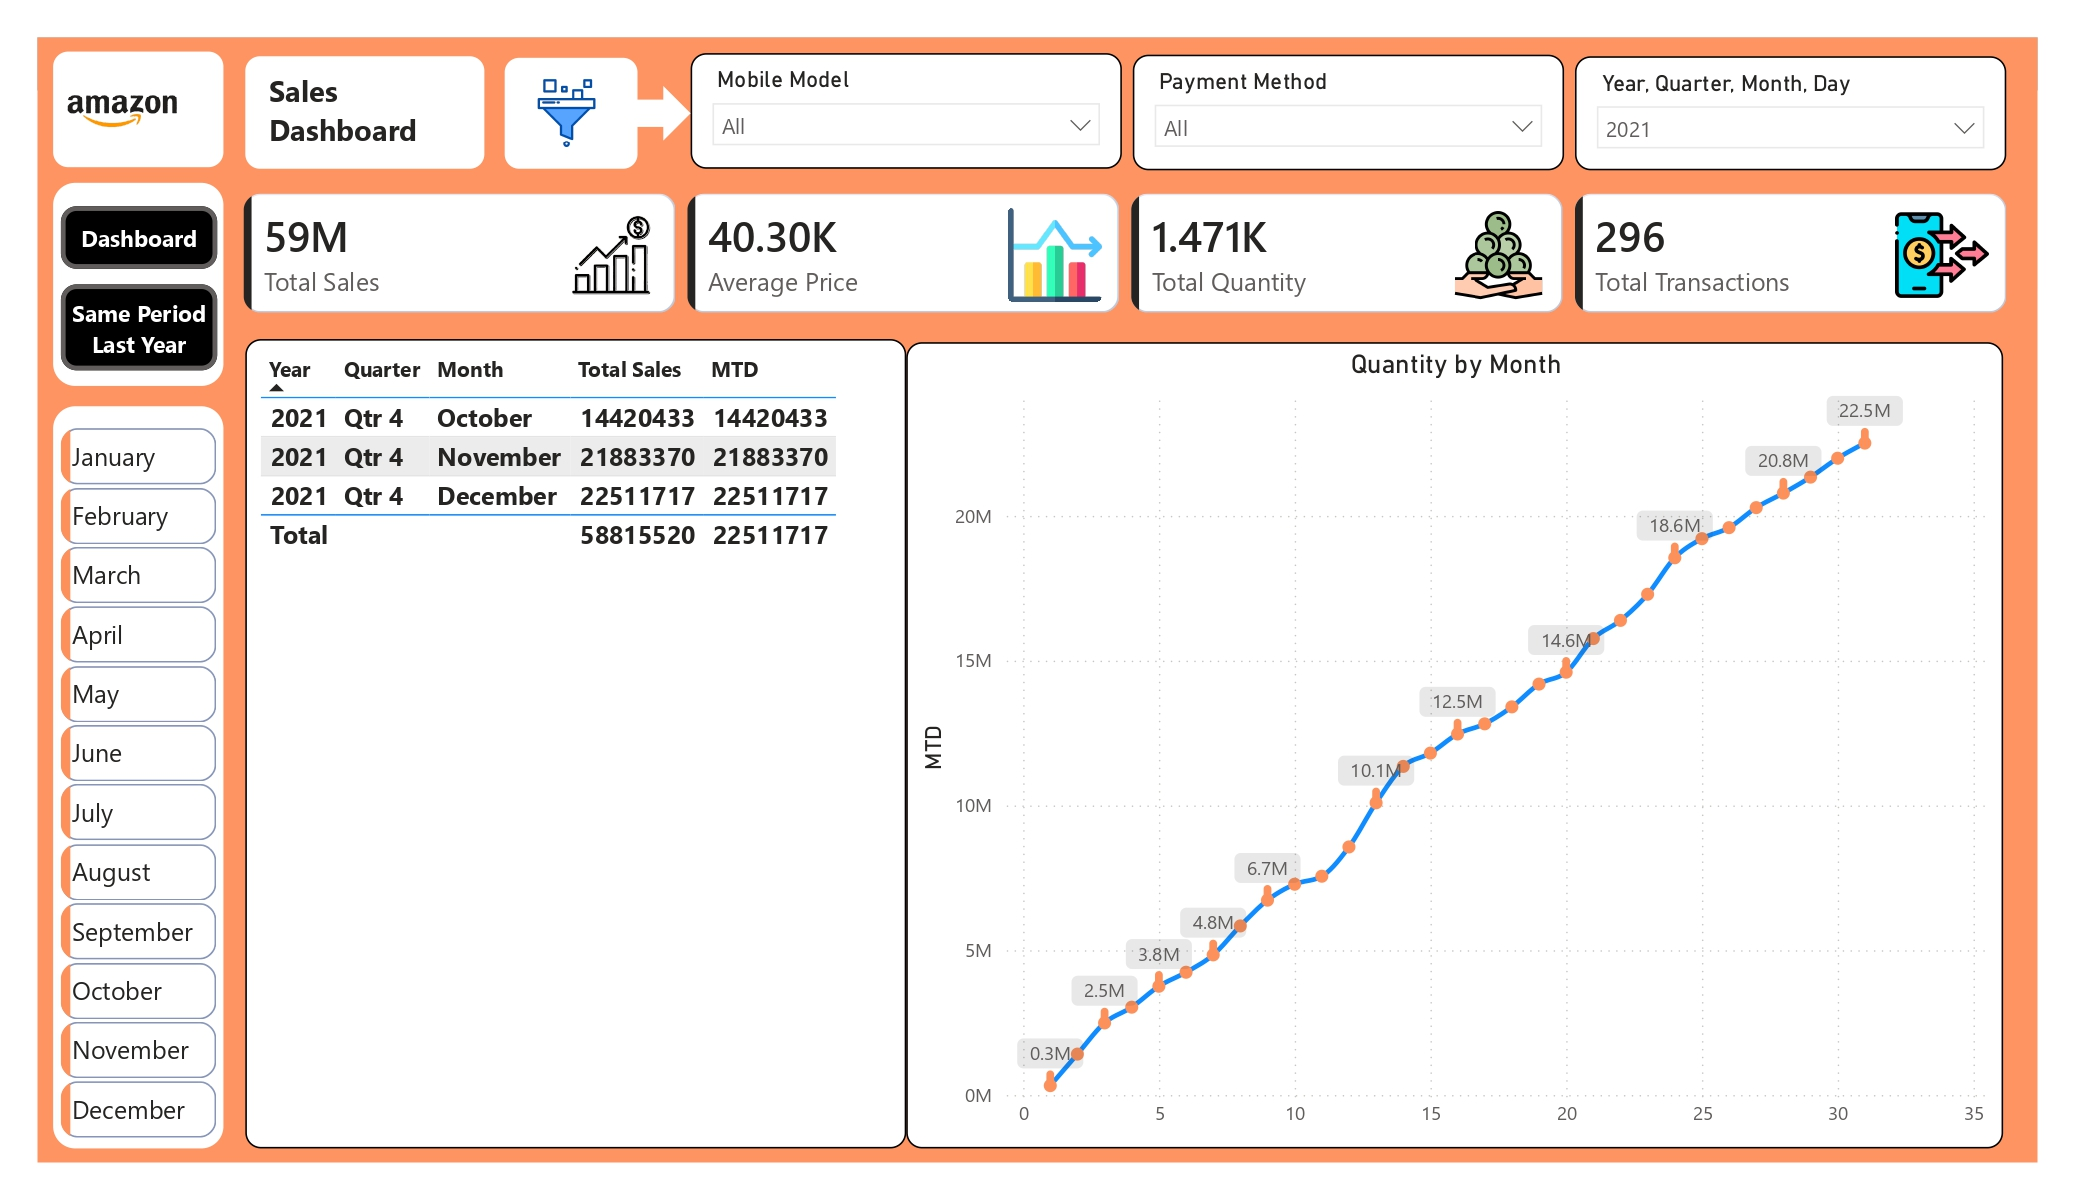

The page's visual inventory and layout, read from the dashboard file:
{"tool":"powerbi","page":{"name":"MTD Report","canvas":[1280,720],"ordinal":1},"visuals":[{"type":"shape","box":[10,8.8,108.8,73.8],"z":0},{"type":"image","box":[10,11.2,87.5,71.2],"z":1000},{"type":"shape","box":[10,92.5,108.8,130],"z":2000},{"type":"shape","box":[10,236.2,108.8,475],"z":3000},{"type":"advancedSlicerVisual","fields":{"Values":["custom_calendar.date.Variation.Date Hierarchy.Month"]},"box":[10,245,108.8,475],"z":4000},{"type":"slicer","fields":{"Values":["sales_data.Mobile Model"]},"box":[417.5,9.8,276.2,73.8],"z":6000},{"type":"slicer","fields":{"Values":["sales_data.Payment Method"]},"box":[700.6,10.8,276.2,73.8],"z":7000},{"type":"slicer","fields":{"Values":["custom_calendar.date.Variation.Date Hierarchy.Year","custom_calendar.date.Variation.Date Hierarchy.Quarter","custom_calendar.date.Variation.Date Hierarchy.Month","custom_calendar.date.Variation.Date Hierarchy.Day"]},"box":[983.8,11.5,276.2,73.8],"z":8000},{"type":"shape","box":[298.8,12.5,85,71.2],"z":9000},{"type":"shape","box":[132.5,11.8,153.8,72.5],"z":10000},{"type":"textbox","box":[142.5,16.2,133.8,61.2],"z":11000},{"type":"image","box":[316.2,17.5,45,61.2],"z":12000},{"type":"shape","box":[368.8,31.2,48.8,35],"z":13000},{"type":"lineChart","title":"Quantity by Month","fields":{"Y":["sales_data.MTD"],"Category":["custom_calendar.date.Variation.Date Hierarchy.Year","custom_calendar.date.Variation.Date Hierarchy.Quarter","custom_calendar.date.Variation.Date Hierarchy.Month","custom_calendar.date.Variation.Date Hierarchy.Day"]},"box":[556.2,195,701.2,516.2],"z":15000},{"type":"tableEx","fields":{"Values":["custom_calendar.date.Variation.Date Hierarchy.Year","custom_calendar.date.Variation.Date Hierarchy.Quarter","custom_calendar.date.Variation.Date Hierarchy.Month","sales_data.Total Sales","sales_data.MTD"]},"box":[132.5,192.5,423.8,518.8],"z":20000},{"type":"actionButton","title":"MTD Report","box":[15,107.5,100,40],"z":20001},{"type":"actionButton","title":"MTD Report","box":[15,157.5,100,55],"z":20002},{"type":"cardVisual","fields":{"Data":["sales_data.Total Sales","sales_data.Average Price","sales_data.Total Quantity","sales_data.Total Transactions"]},"box":[115,82.5,1165,110],"z":20003}]}

Visuals, with their boxes on the page's 1280x720 design canvas (x1, y1, x2, y2). These are canvas units, not pixel positions in the 2075x1200 screenshot, which may show the page scaled, cropped or inside an application window:
shape: [left=10, top=9, right=119, bottom=83]
image: [left=10, top=11, right=98, bottom=82]
shape: [left=10, top=92, right=119, bottom=222]
shape: [left=10, top=236, right=119, bottom=711]
advancedSlicerVisual - custom_calendar.date.Variation.Date Hierarchy.Month: [left=10, top=245, right=119, bottom=720]
slicer - sales_data.Mobile Model: [left=418, top=10, right=694, bottom=84]
slicer - sales_data.Payment Method: [left=701, top=11, right=977, bottom=85]
slicer - custom_calendar.date.Variation.Date Hierarchy.Year x custom_calendar.date.Variation.Date Hierarchy.Quarter: [left=984, top=12, right=1260, bottom=85]
shape: [left=299, top=12, right=384, bottom=84]
shape: [left=132, top=12, right=286, bottom=84]
textbox: [left=142, top=16, right=276, bottom=77]
image: [left=316, top=18, right=361, bottom=79]
shape: [left=369, top=31, right=418, bottom=66]
"Quantity by Month" lineChart: [left=556, top=195, right=1257, bottom=711]
tableEx - custom_calendar.date.Variation.Date Hierarchy.Year x custom_calendar.date.Variation.Date Hierarchy.Quarter: [left=132, top=192, right=556, bottom=711]
"MTD Report" actionButton: [left=15, top=108, right=115, bottom=148]
"MTD Report" actionButton: [left=15, top=158, right=115, bottom=212]
cardVisual - sales_data.Total Sales x sales_data.Average Price: [left=115, top=82, right=1280, bottom=192]
